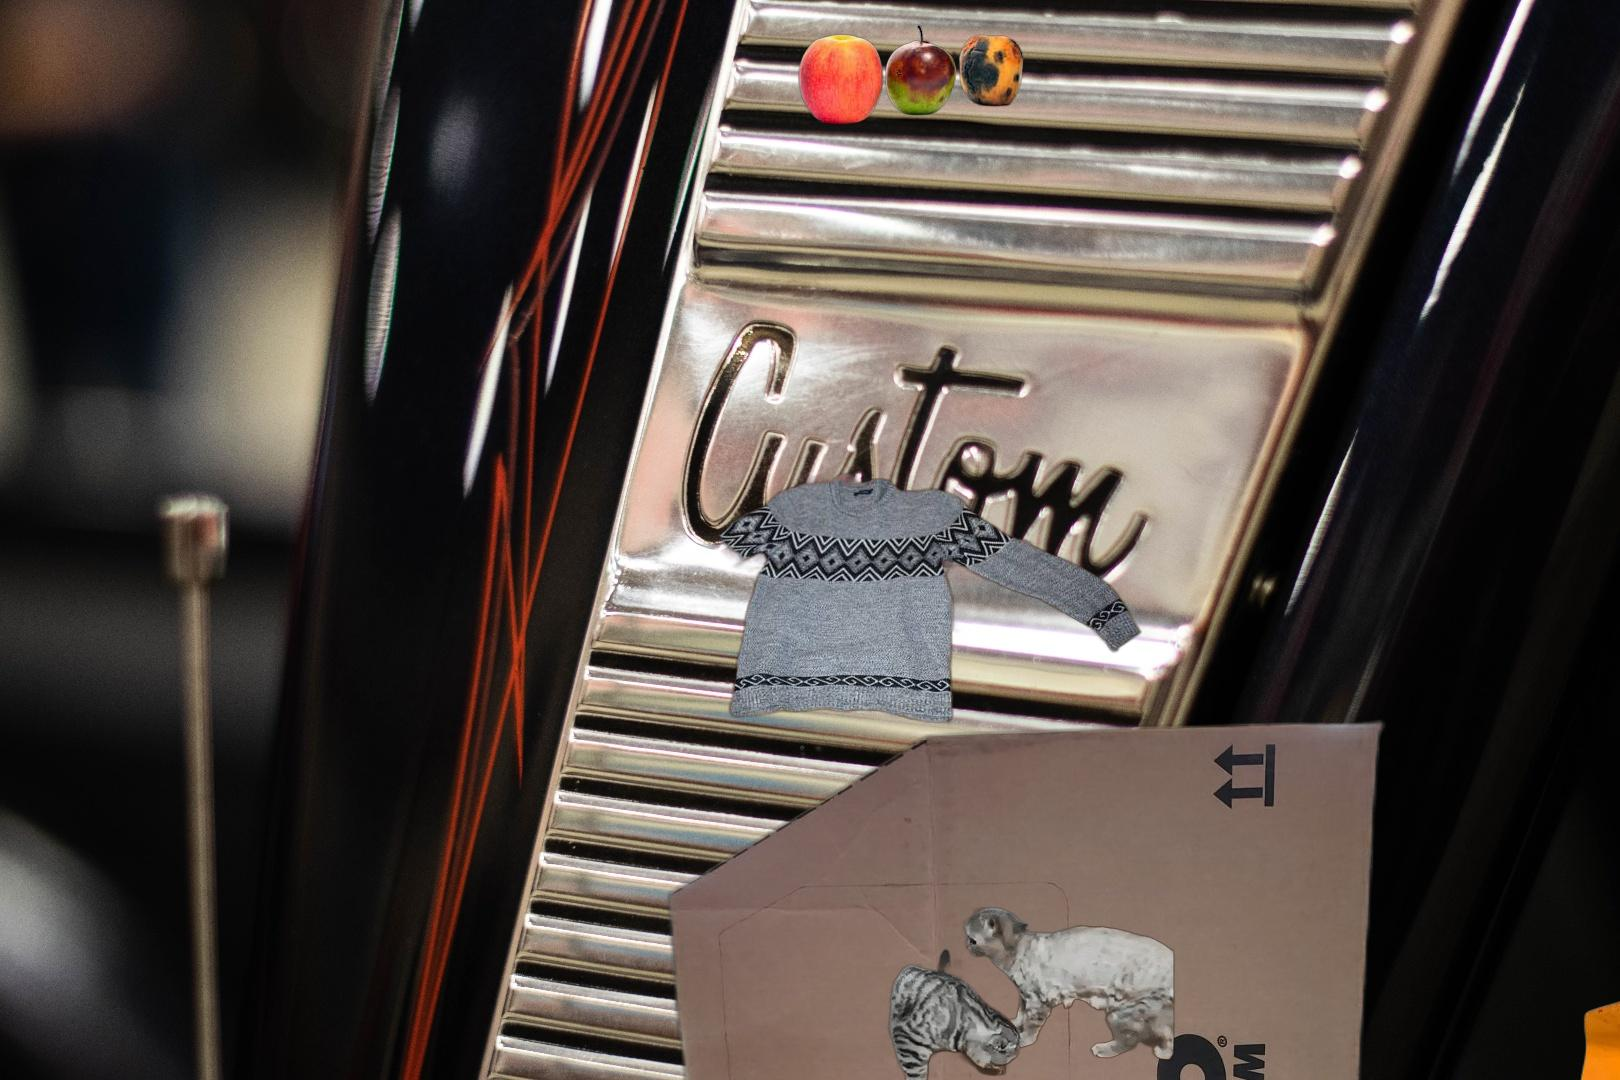biological: (796, 22, 1026, 127)
clothes: (627, 469, 1145, 753)
paper: (1566, 997, 1620, 1080)
trashbox-cardboard: (659, 714, 1392, 1080), (886, 905, 1176, 1080)
